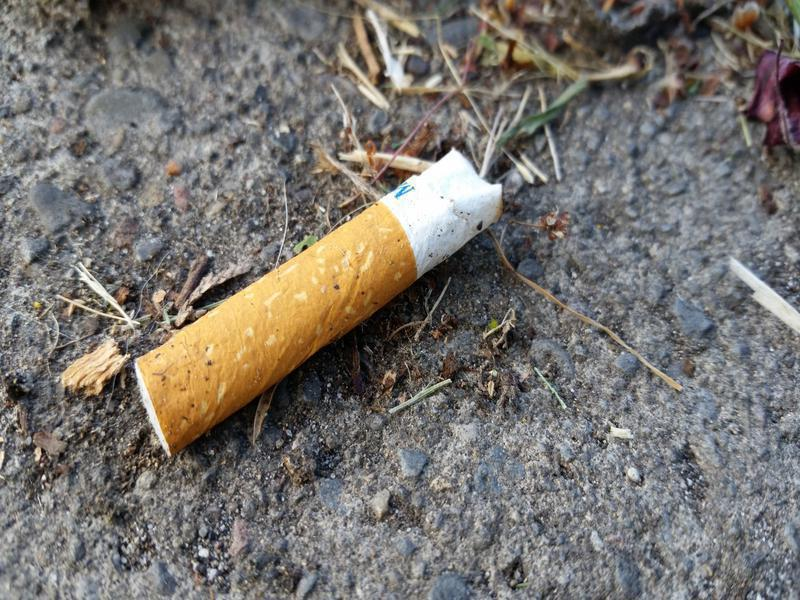burned_cigarette: (130, 146, 507, 461)
